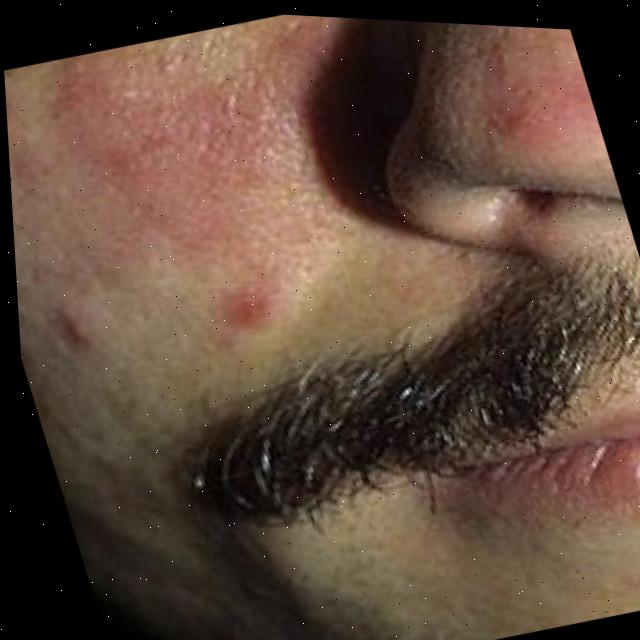Rosacea: (1, 24, 407, 457)
